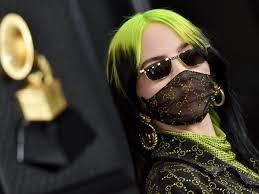mask: (143, 68, 220, 127)
sunglasses: (137, 41, 211, 85)
